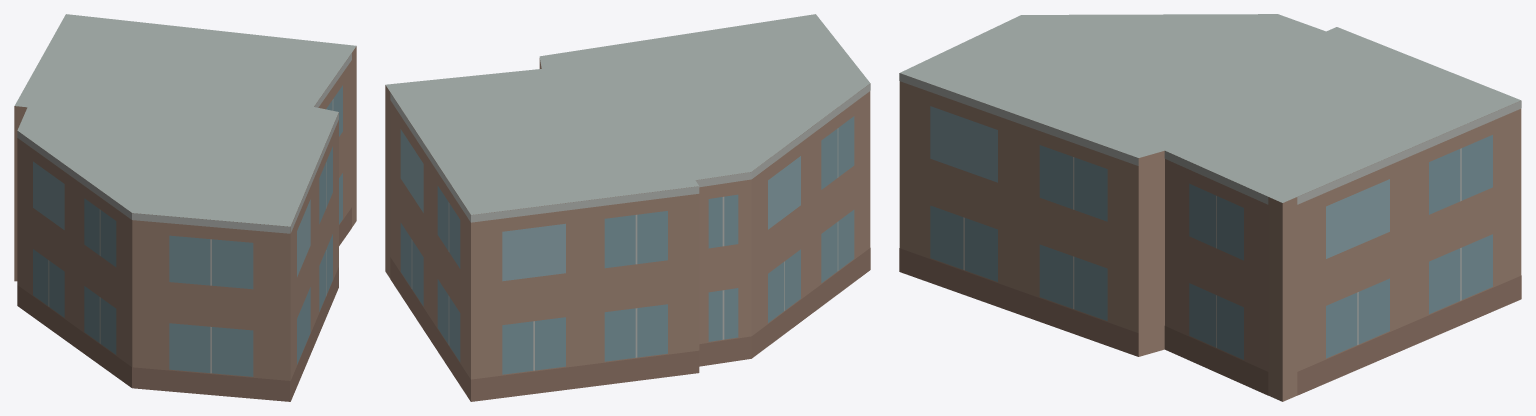
Rendered from survey-upis-32768124.glb.
3 views of the same model, side by side, from view 1: azimuth 30°, elevation 25°; view 2: azimuth 150°, elevation 25°; view 3: azimuth 270°, elevation 25° (orthographic). The views are drawn at different scales.
Parts seen in each view (by area): view 1: survey-upis-32768124.tmp; view 2: survey-upis-32768124.tmp; view 3: survey-upis-32768124.tmp.
Boxes of the visible parts, x1=… form: survey-upis-32768124.tmp: x1=14, y1=14, x2=356, y2=401; survey-upis-32768124.tmp: x1=385, y1=14, x2=870, y2=401; survey-upis-32768124.tmp: x1=899, y1=14, x2=1521, y2=401.
Bounding box in the file's own units: 11.83 × 5.8 × 16.45.
